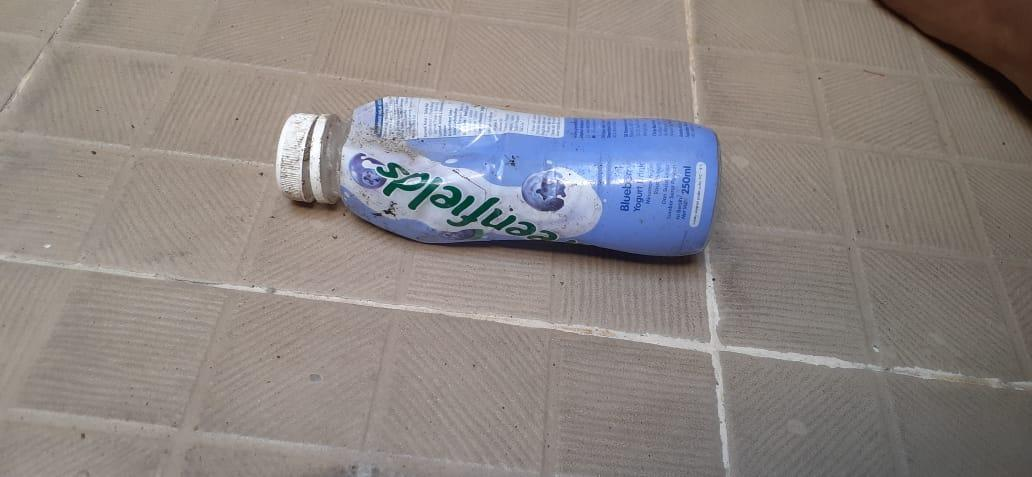Plastik: (278, 96, 721, 260)
